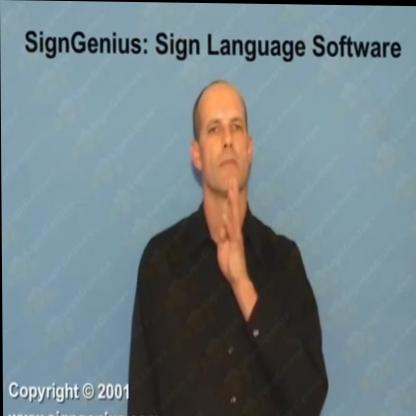Talk: (121, 71, 331, 416)
